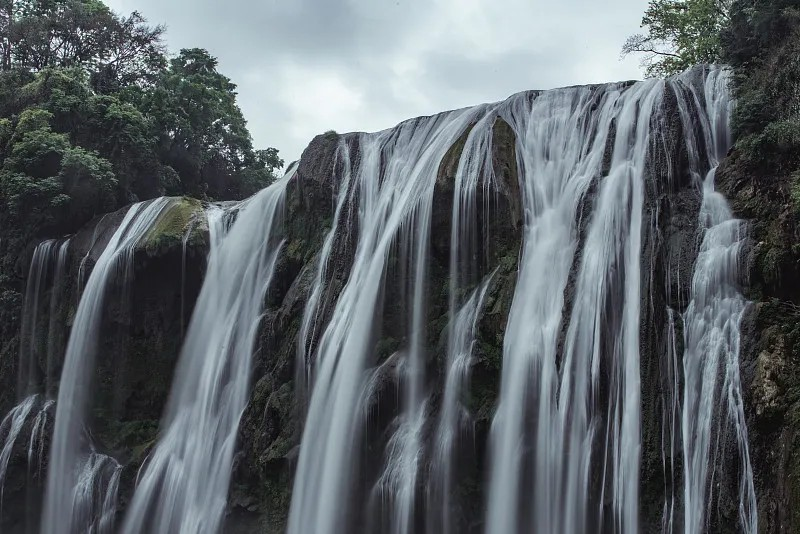Huangguoshu: (36, 66, 747, 534)
